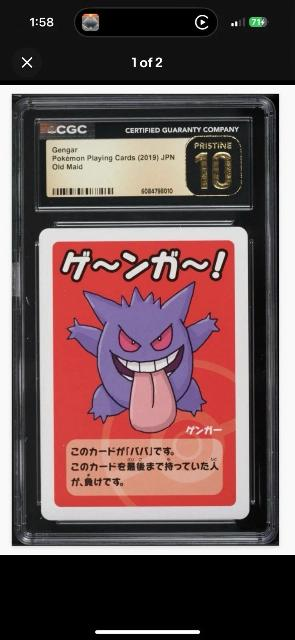Card: (34, 222, 255, 525)
Name: (53, 237, 230, 289)
